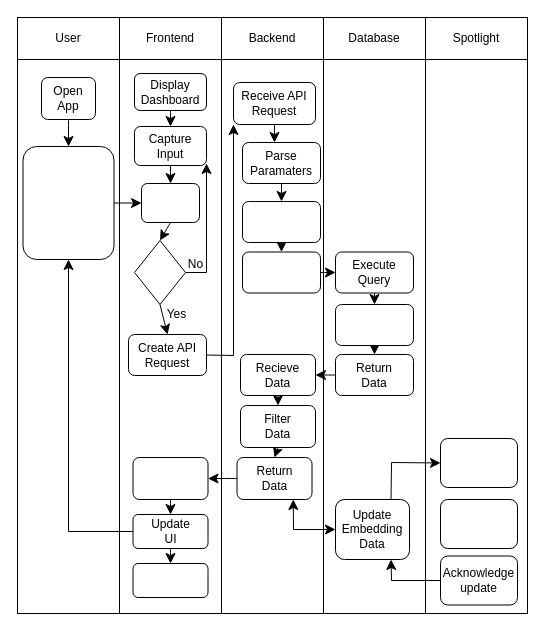
Image size: 545x631. Some labels were removed from this diagram. Here are the shapes that lost their labels. From the top down, the centre of each, then its label:
(68,203): Interact - Select Point - Adjust timeline - add Pin - Filter Data
(170,202): Validate Input
(281,221): Build Query
(160,272): Input Valid
(281,272): Send Query
(374,325): Retreive Data
(170,478): Process Response
(479,463): Receive Update Request
(479,523): Update Embedding Visualization
(170,580): End
